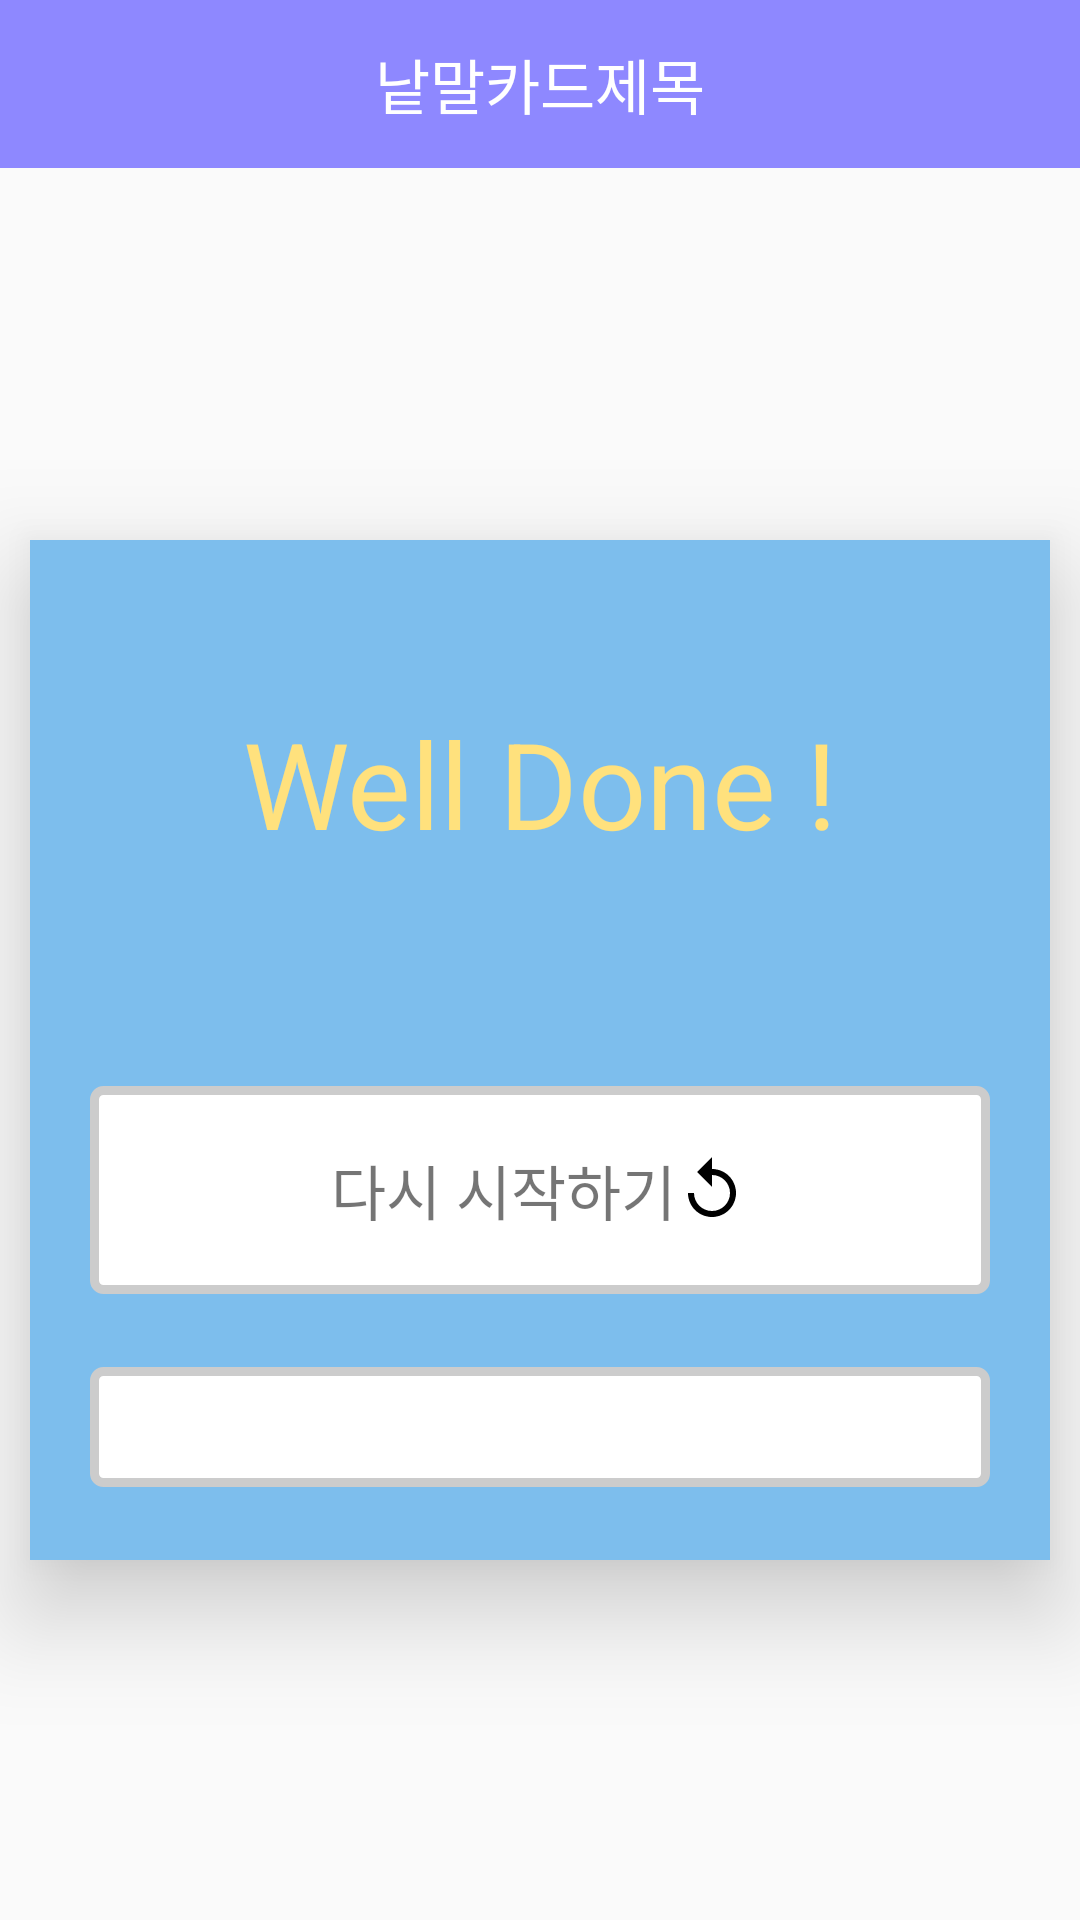

Screen size 1080 × 1920. Icon name, then its center in pixels as [x,y]:
replay: [712,1187]
